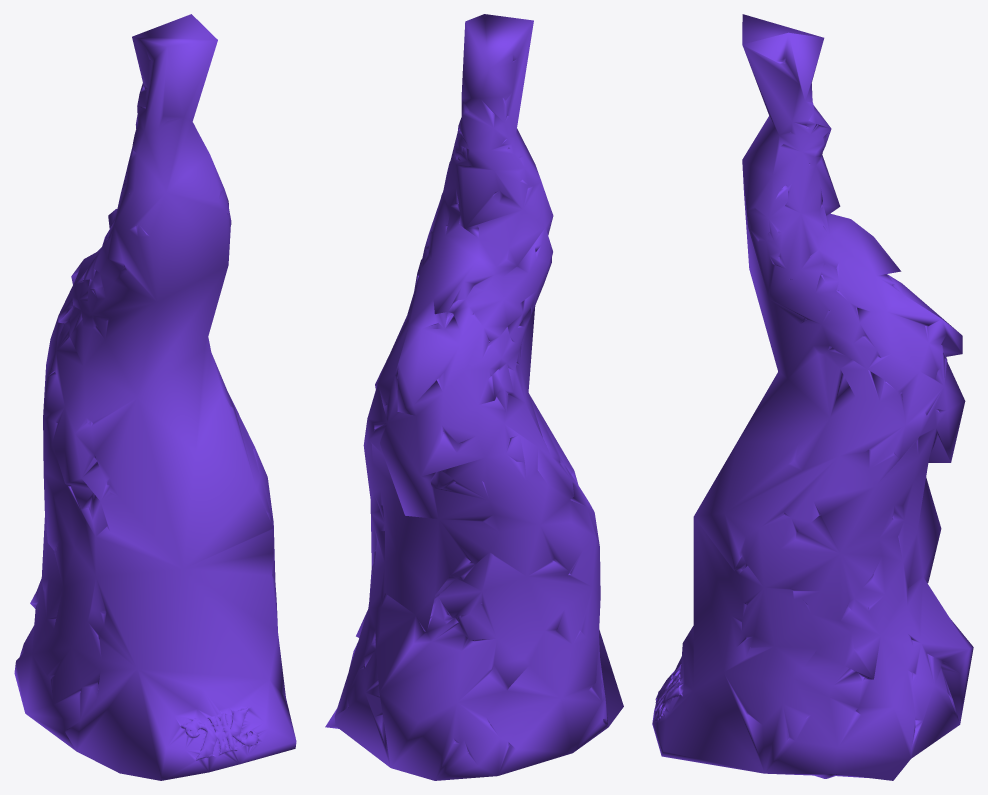
File: small-mast-ar.glb
3 views of the same model, side by side, from view 1: azimuth 30°, elevation 25°; view 2: azimuth 150°, elevation 25°; view 3: azimuth 270°, elevation 25° (orthographic). The views are drawn at different scales.
Size of the model in its own units: 0.1037 by 0.2935 by 0.1213.
